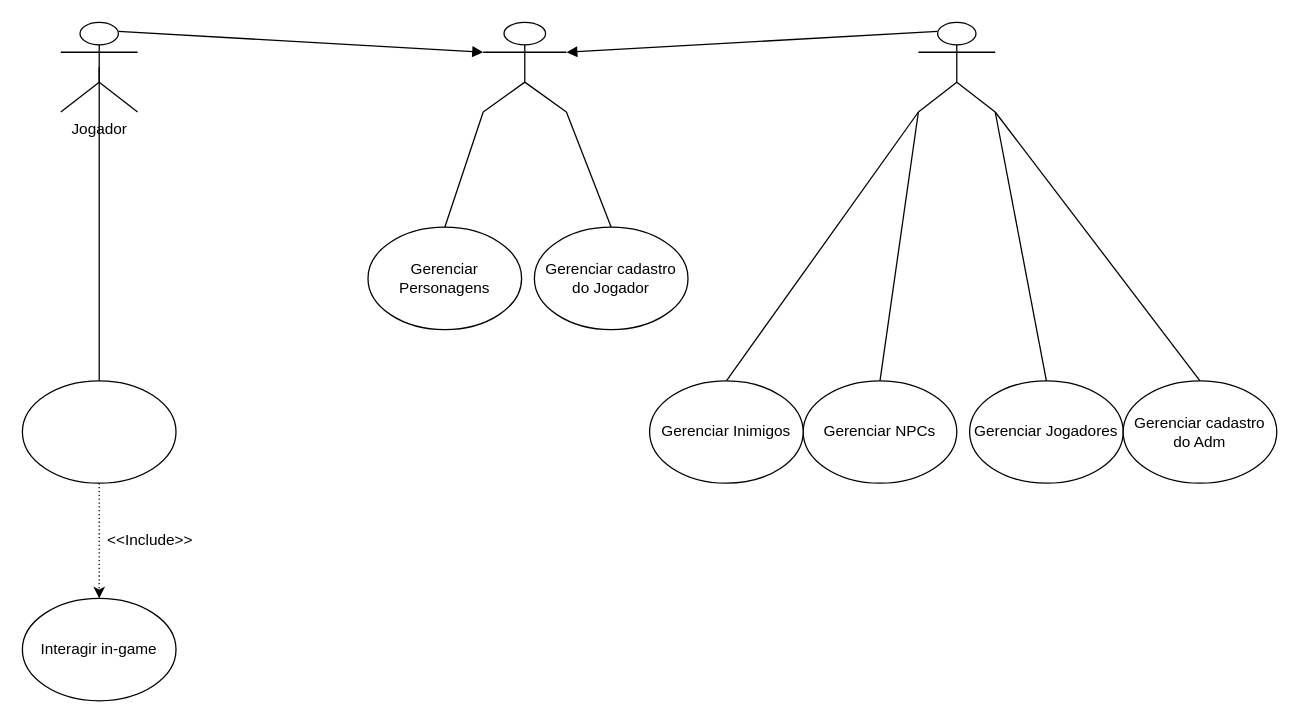
Image size: 1299x723. Some labels were removed from this diagram. The shapes that lost their labels are listed below. From the top down, each one's centre as x and y in pixels, then its label:
[524,66]: User
[956,66]: Adm
[98,431]: Carregar Personagem
